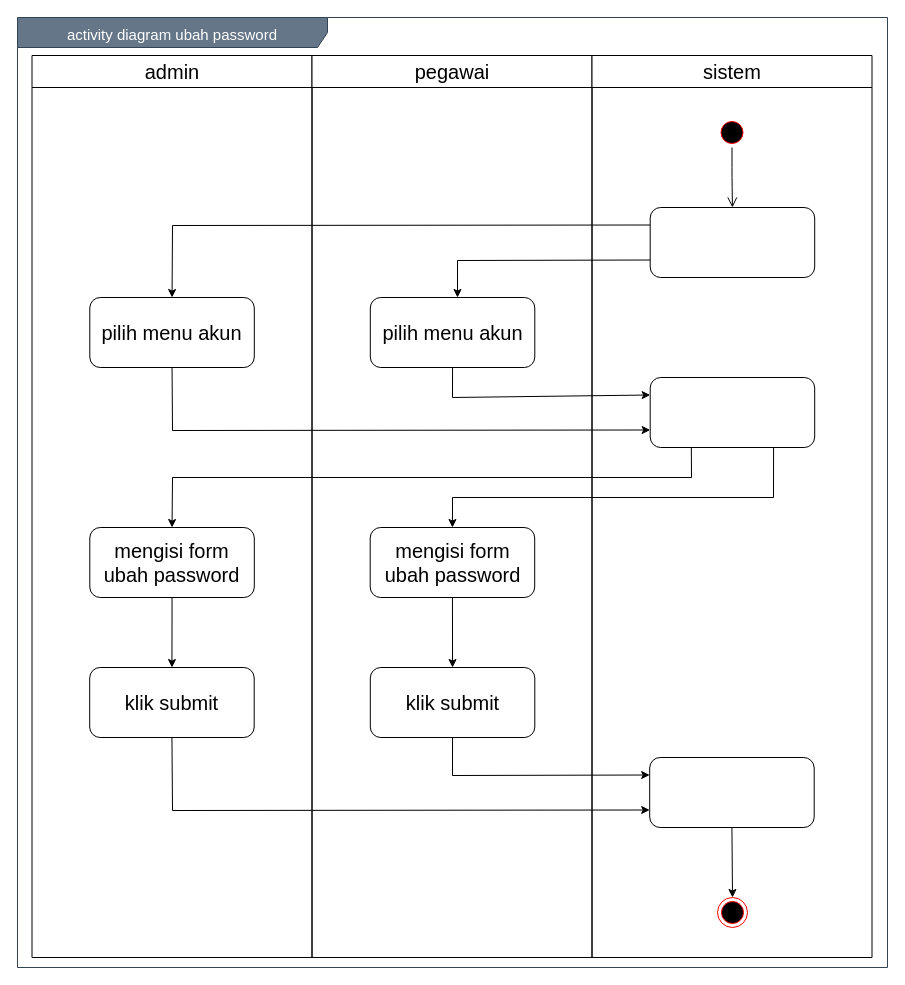
The diagram is 905 pixels wide and 985 high, and some of its shapes have lost their labels. Each missing label, with the centre of its shape:
"menampilkan dashboard sesuai rolenya" goes at point 732,242.
"menampilkan form ubah password" goes at point 732,412.
"menyimpan data dalam database" goes at point 731,792.
